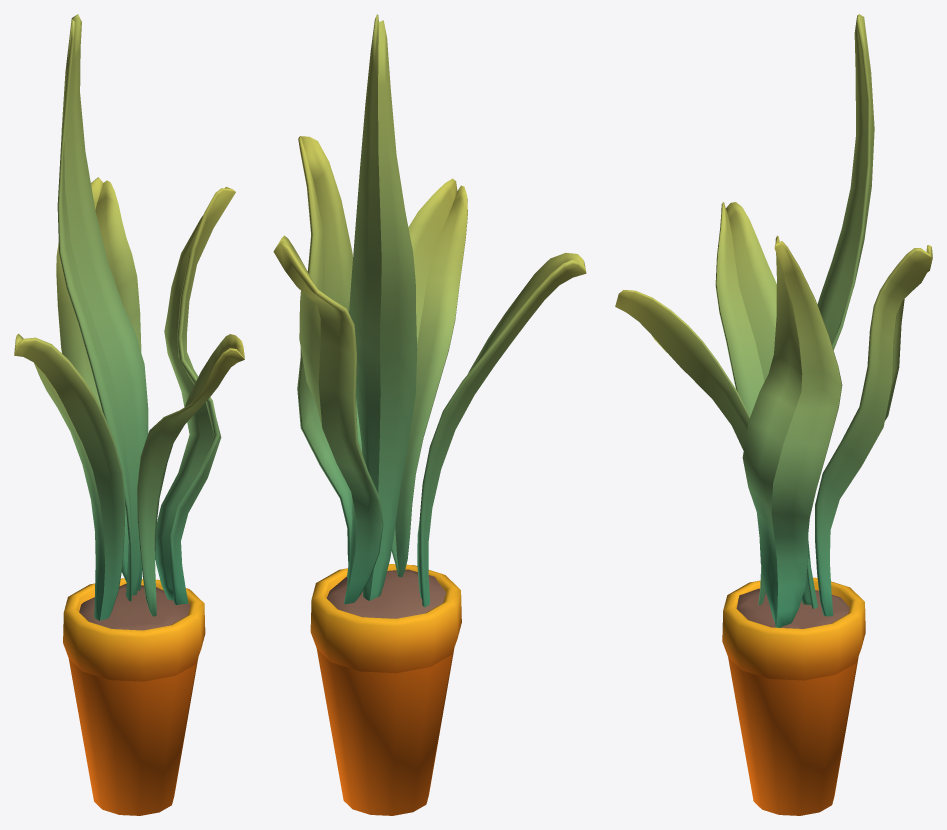
File: Plant_1.fbx
The picture shows the model from 3 angles, left to right: view 1: azimuth 30°, elevation 25°; view 2: azimuth 150°, elevation 25°; view 3: azimuth 270°, elevation 25°; orthographic projection. The views are drawn at different scales.
Visible parts, largest first — view 1: Plant_1; view 2: Plant_1; view 3: Plant_1.
Part boxes in pixels (x1=…): Plant_1: x1=14, y1=14, x2=244, y2=815; Plant_1: x1=273, y1=14, x2=586, y2=815; Plant_1: x1=615, y1=14, x2=932, y2=815.
Size of the model in its own units: 0.606 by 1.8 by 0.6712.
